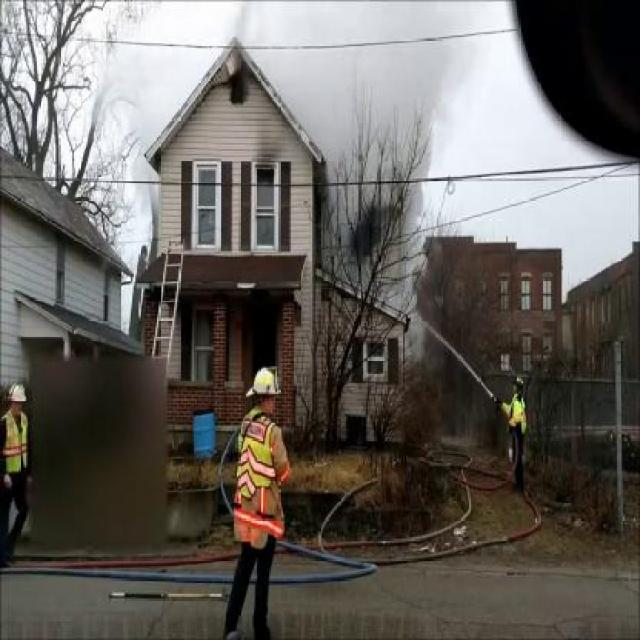smoke: (230, 3, 464, 388), (101, 24, 208, 221)
